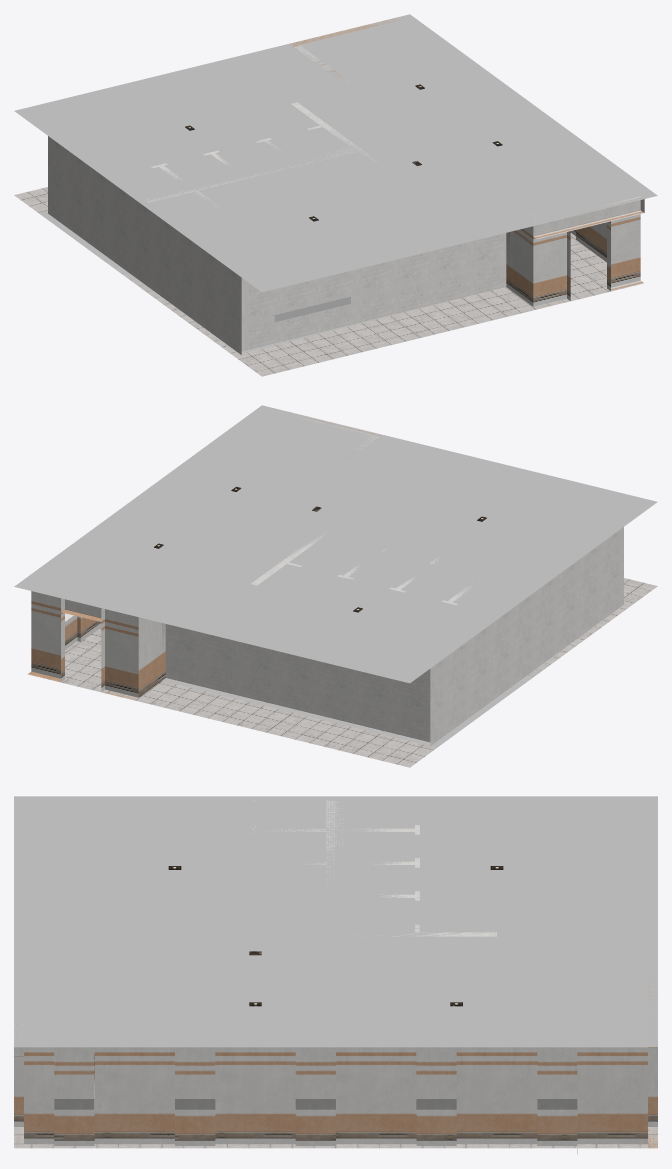
Rendered from RZ_room2_toilets.gltf.
The picture shows the model from 3 angles, top to bottom: view 1: azimuth 30°, elevation 25°; view 2: azimuth 150°, elevation 25°; view 3: azimuth 270°, elevation 25°; orthographic projection. The views are drawn at different scales.
Visible parts, largest first — view 1: room2toilets; view 2: room2toilets; view 3: room2toilets.
Part boxes in pixels (x1,y1,x2,y2): room2toilets: (14, 14, 657, 376); room2toilets: (14, 405, 657, 767); room2toilets: (14, 796, 657, 1154).
Size of the model in its own units: 18.88 by 3.87 by 20.48.
